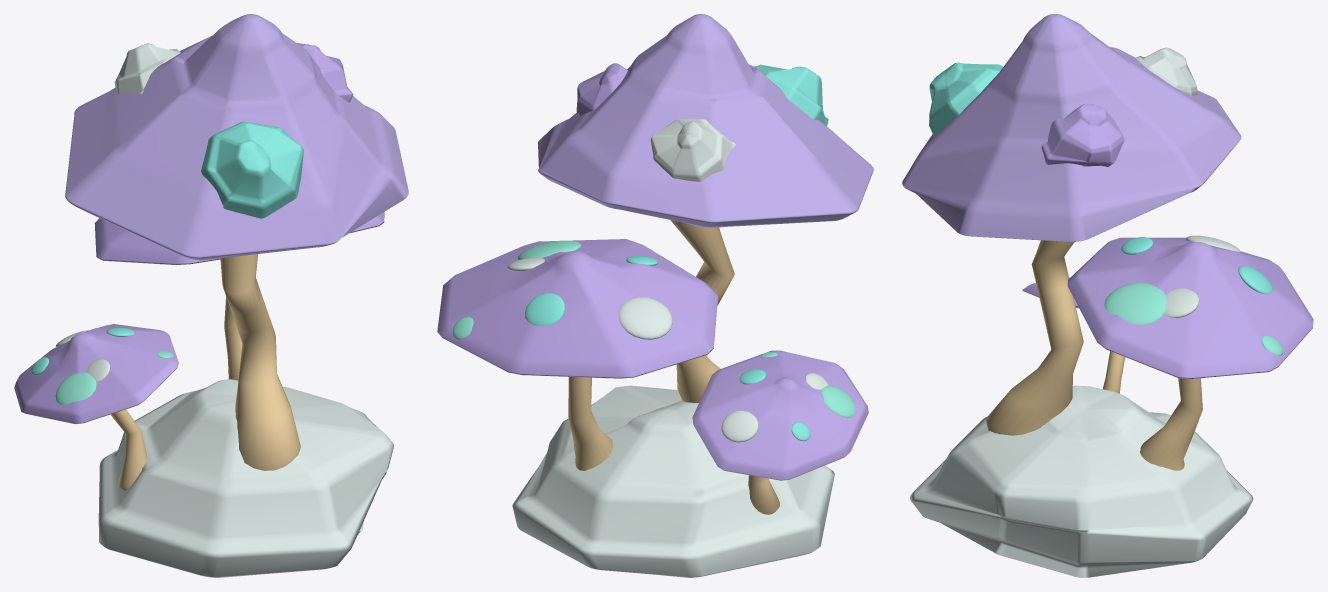
File: Mush1.fbx
The picture shows the model from 3 angles, left to right: view 1: azimuth 30°, elevation 25°; view 2: azimuth 150°, elevation 25°; view 3: azimuth 270°, elevation 25°; orthographic projection. The views are drawn at different scales.
Visible parts, largest first — view 1: group56_pasted__group34_pasted__pasted__group3_pasted__paste; view 2: group56_pasted__group34_pasted__pasted__group3_pasted__paste; view 3: group56_pasted__group34_pasted__pasted__group3_pasted__paste.
Boxes of the visible parts, left/top/right/bottom form: group56_pasted__group34_pasted__pasted__group3_pasted__paste: left=14, top=14, right=408, bottom=577; group56_pasted__group34_pasted__pasted__group3_pasted__paste: left=437, top=14, right=873, bottom=577; group56_pasted__group34_pasted__pasted__group3_pasted__paste: left=902, top=14, right=1313, bottom=577.
Bounding box in the file's own units: 0.7529 × 0.9654 × 0.7098.
